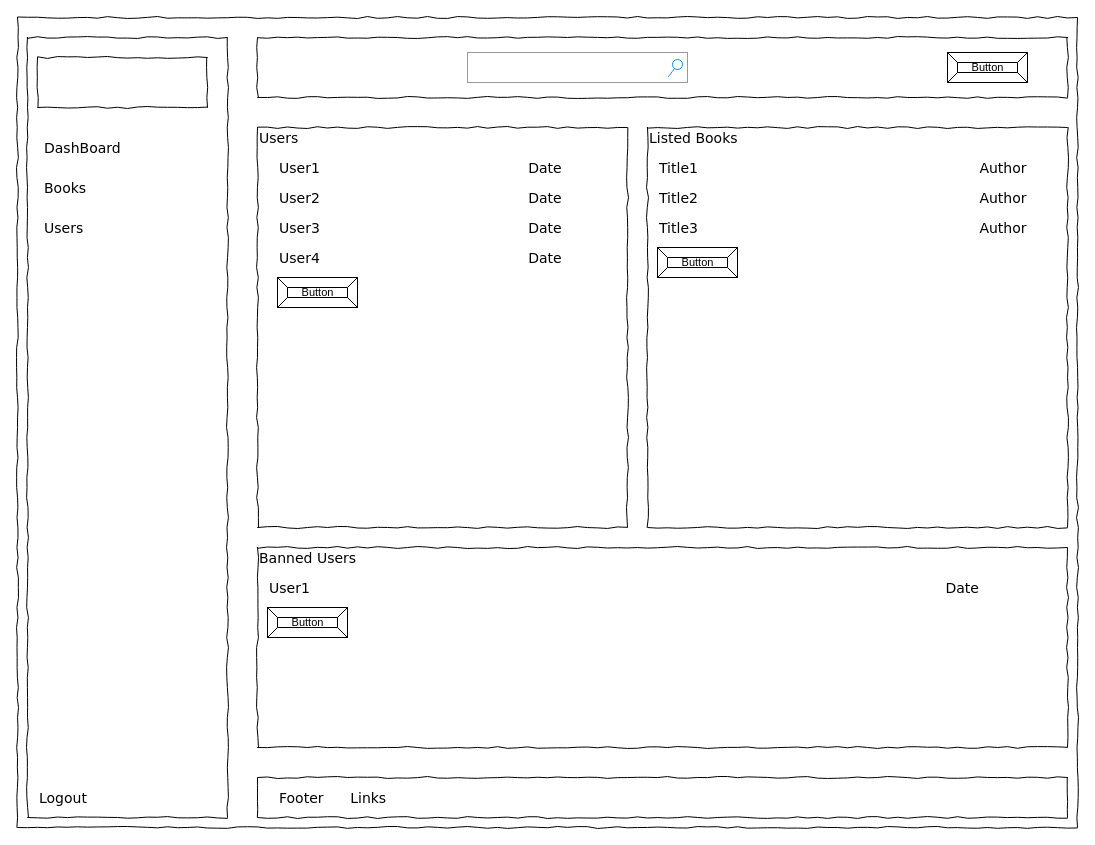
Some shapes in this 1095 by 845 pixel diagram are drawn without their labels. Here are the shapes that lost their labels. From the top down, the centre of each, then its label:
At point (122, 82): "LOGO".
At point (577, 67): "Search".
